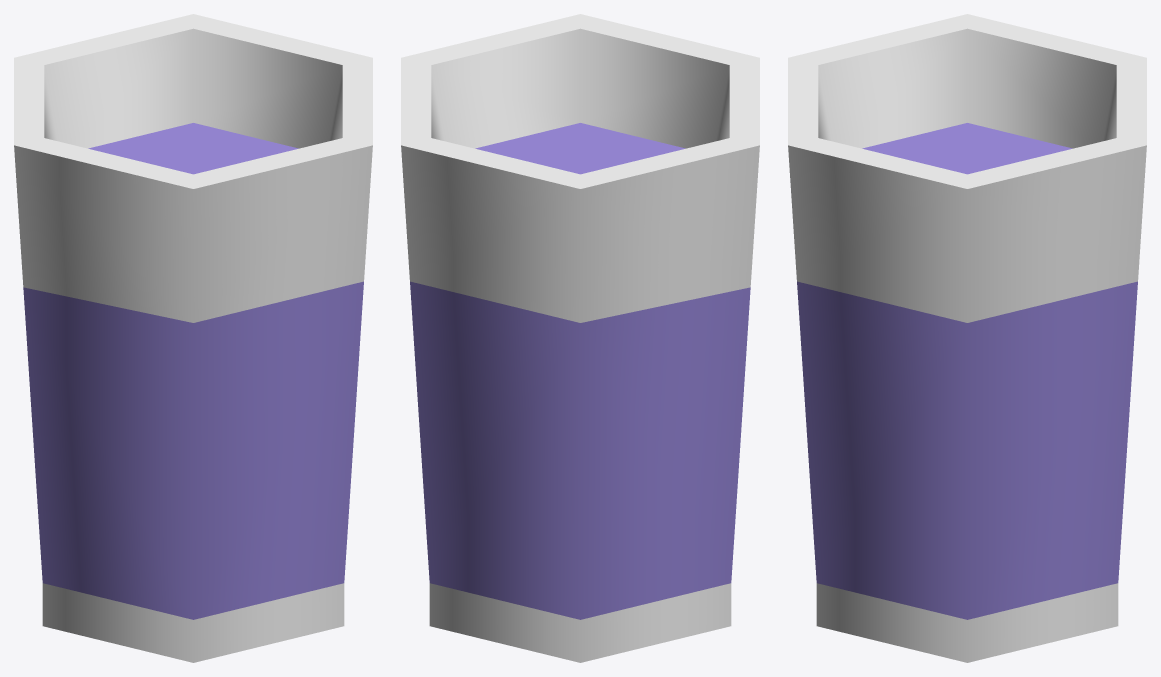
Rendered from sodaGlass.GLB.
3 renders of one model, left to right at view 1: azimuth 30°, elevation 25°; view 2: azimuth 150°, elevation 25°; view 3: azimuth 270°, elevation 25°, orthographic.
Visible parts, largest first — view 1: sodaGlass; view 2: sodaGlass; view 3: sodaGlass.
Part boxes in pixels (<box>): sodaGlass: <box>14,14,372,662</box>; sodaGlass: <box>401,14,759,662</box>; sodaGlass: <box>788,14,1146,662</box>.
Bounding box in the file's own units: 0.2618 × 0.34 × 0.2267.
